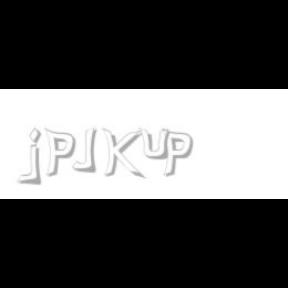J: (72, 128, 97, 172)
K: (102, 128, 142, 180)
P: (44, 128, 76, 178), (161, 128, 193, 178)
j: (26, 128, 55, 186)
u: (138, 128, 173, 160)
